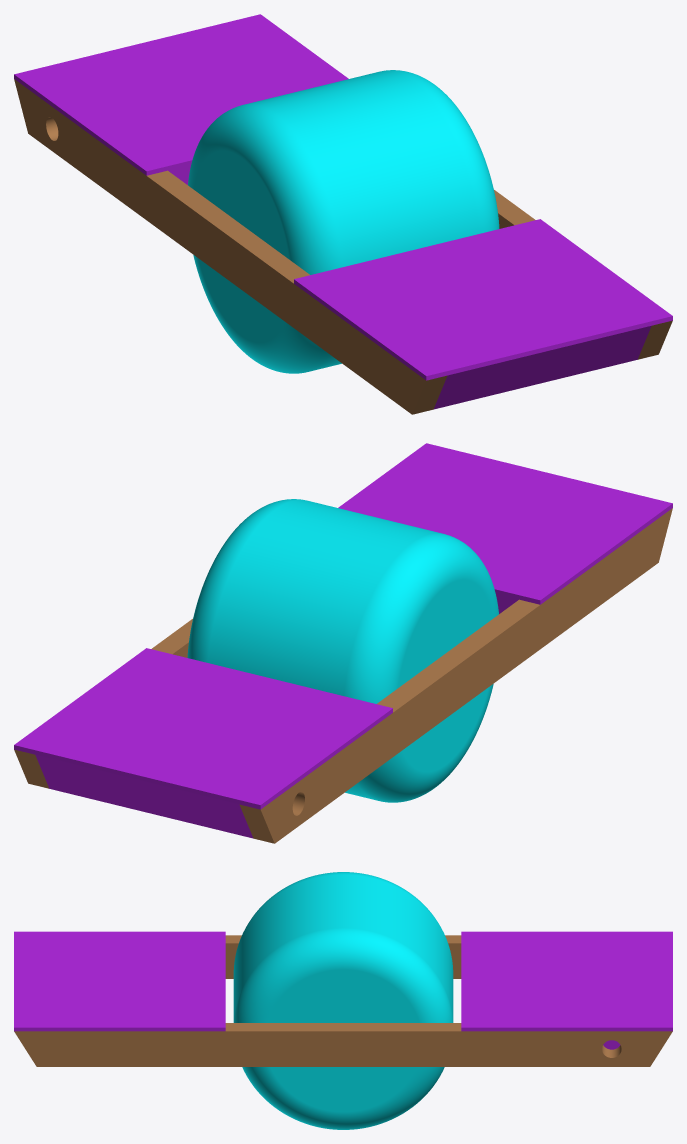
Rendered from board.glb.
3 views of the same model, one above another, from view 1: azimuth 30°, elevation 25°; view 2: azimuth 150°, elevation 25°; view 3: azimuth 270°, elevation 25° (orthographic). The views are drawn at different scales.
Visible parts, largest first — view 1: Footpads, Wheel, Rails; view 2: Footpads, Wheel, Rails; view 3: Footpads, Wheel, Rails.
Part boxes in pixels (<box>): Footpads: <box>14,14,672,409</box>; Wheel: <box>188,70,499,373</box>; Rails: <box>14,79,672,414</box>; Footpads: <box>14,443,672,838</box>; Wheel: <box>187,499,498,802</box>; Rails: <box>14,508,672,843</box>; Footpads: <box>14,931,672,1049</box>; Wheel: <box>233,872,453,1129</box>; Rails: <box>14,935,672,1066</box>.
Bounding box in the file's own units: 0.29 × 0.2799 × 0.84.
